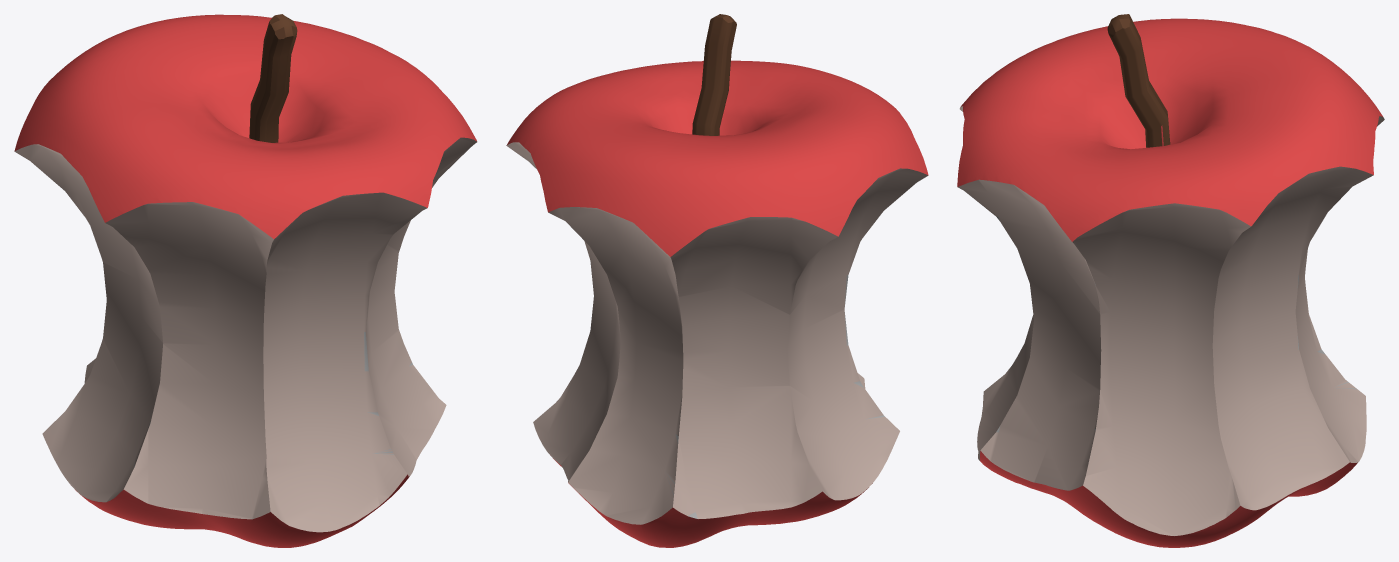
File: Eaten Apple.fbx
The picture shows the model from 3 angles, left to right: view 1: azimuth 30°, elevation 25°; view 2: azimuth 150°, elevation 25°; view 3: azimuth 270°, elevation 25°; orthographic projection. The views are drawn at different scales.
Parts seen in each view (by area): view 1: polySurface10; view 2: polySurface10; view 3: polySurface10.
Boxes of the visible parts, x1,y1,x2,y2 form: polySurface10: (14, 14, 477, 547); polySurface10: (506, 14, 928, 547); polySurface10: (957, 14, 1384, 547).
Size of the model in its own units: 1.52 by 1.95 by 1.56.
